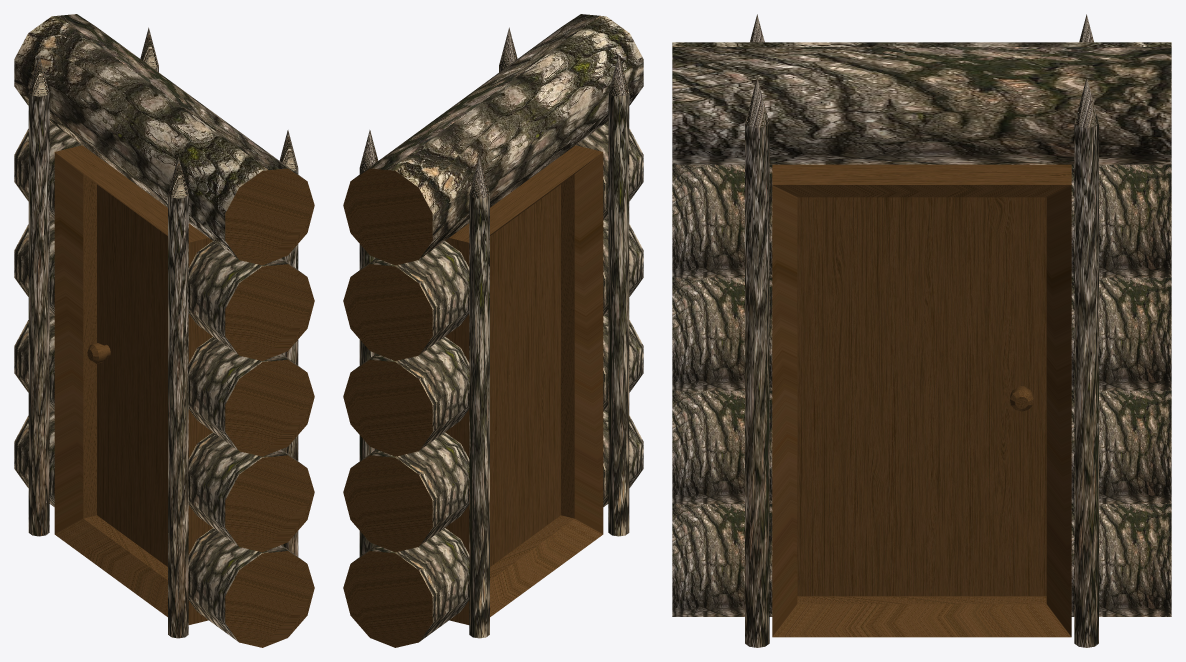
File: StrucDoor.fbx
3 views of the same model, side by side, from view 1: azimuth 30°, elevation 25°; view 2: azimuth 150°, elevation 25°; view 3: azimuth 270°, elevation 25° (orthographic). The views are drawn at different scales.
Parts seen in each view (by area): view 1: Log010, DoorFrame, Door, Post003, Post001, Side010, Side008, Side009, Side007, Side006, Log007, Log006 (+7 smaller); view 2: Log010, DoorFrame, Door, Post001, Post003, Side010, Side003, Side004, Side002, Side001, Log002, Log001 (+7 smaller); view 3: Door, Log010, DoorFrame, Post004, Post006, Log002, Log003, Log004, Log007, Log008, Log009, Log001 (+1 smaller).
Part boxes in pixels (bbox=[...]): Log010: bbox=[14, 14, 304, 259]; DoorFrame: bbox=[54, 145, 212, 624]; Door: bbox=[87, 184, 167, 566]; Post003: bbox=[28, 54, 49, 536]; Post001: bbox=[168, 156, 188, 638]; Side010: bbox=[225, 168, 314, 265]; Side008: bbox=[225, 359, 314, 456]; Side009: bbox=[225, 264, 314, 360]; Side007: bbox=[225, 455, 314, 552]; Side006: bbox=[225, 551, 314, 647]; Log007: bbox=[188, 432, 303, 546]; Log006: bbox=[188, 528, 305, 641]; Log010: bbox=[353, 14, 643, 259]; DoorFrame: bbox=[445, 145, 603, 624]; Door: bbox=[490, 184, 560, 566]; Post001: bbox=[608, 54, 629, 536]; Post003: bbox=[469, 156, 489, 638]; Side010: bbox=[343, 168, 432, 265]; Side003: bbox=[343, 359, 432, 456]; Side004: bbox=[343, 264, 432, 360]; Side002: bbox=[343, 455, 432, 552]; Side001: bbox=[343, 551, 432, 647]; Log002: bbox=[354, 432, 469, 546]; Log001: bbox=[352, 528, 469, 641]; Door: bbox=[797, 197, 1046, 596]; Log010: bbox=[672, 42, 1171, 164]; DoorFrame: bbox=[772, 164, 1071, 637]; Post004: bbox=[745, 78, 769, 647]; Post006: bbox=[1074, 78, 1098, 647]; Log002: bbox=[1071, 390, 1171, 503]; Log003: bbox=[1071, 277, 1171, 390]; Log004: bbox=[1071, 164, 1171, 277]; Log007: bbox=[672, 390, 772, 503]; Log008: bbox=[672, 277, 772, 390]; Log009: bbox=[672, 164, 772, 277]; Log001: bbox=[1071, 504, 1171, 616].
Size of the model in its own units: 34.85 by 125 by 100.
2 materials, 2 textured.
